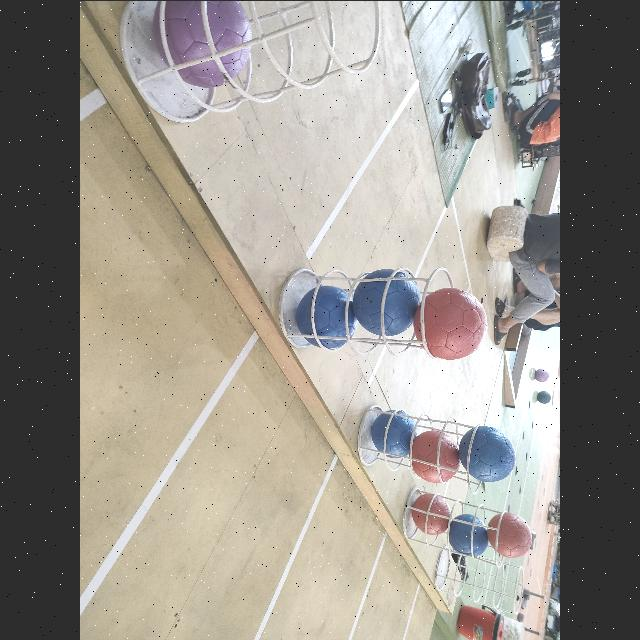B: (354, 269, 421, 335), (295, 284, 357, 348), (458, 426, 516, 482), (369, 408, 416, 458), (449, 512, 489, 556)
R: (415, 287, 489, 359), (412, 429, 461, 481), (488, 512, 532, 556), (411, 492, 452, 534)
